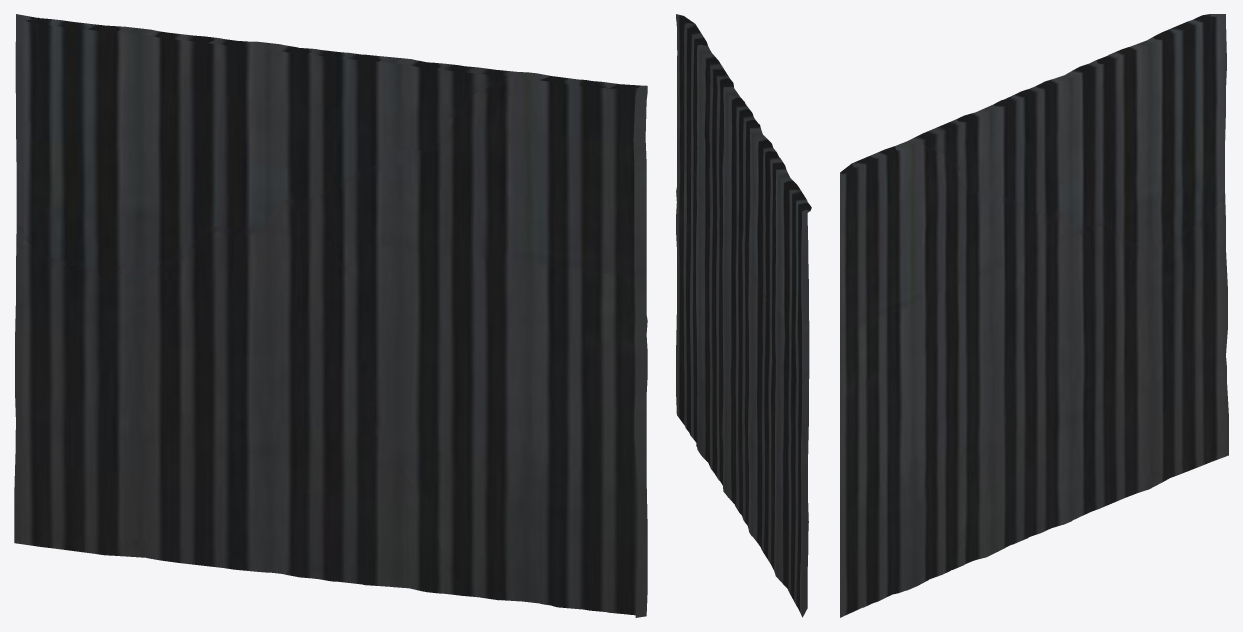
Rendered from z20-167773-405238-h1-yup-uvflip-v3-world.glb.
3 renders of one model, left to right at view 1: azimuth 30°, elevation 25°; view 2: azimuth 150°, elevation 25°; view 3: azimuth 270°, elevation 25°, orthographic. The views are drawn at different scales.
Size of the model in its own units: 15.76 by 19.96 by 15.92.
1 material, 1 textured.
